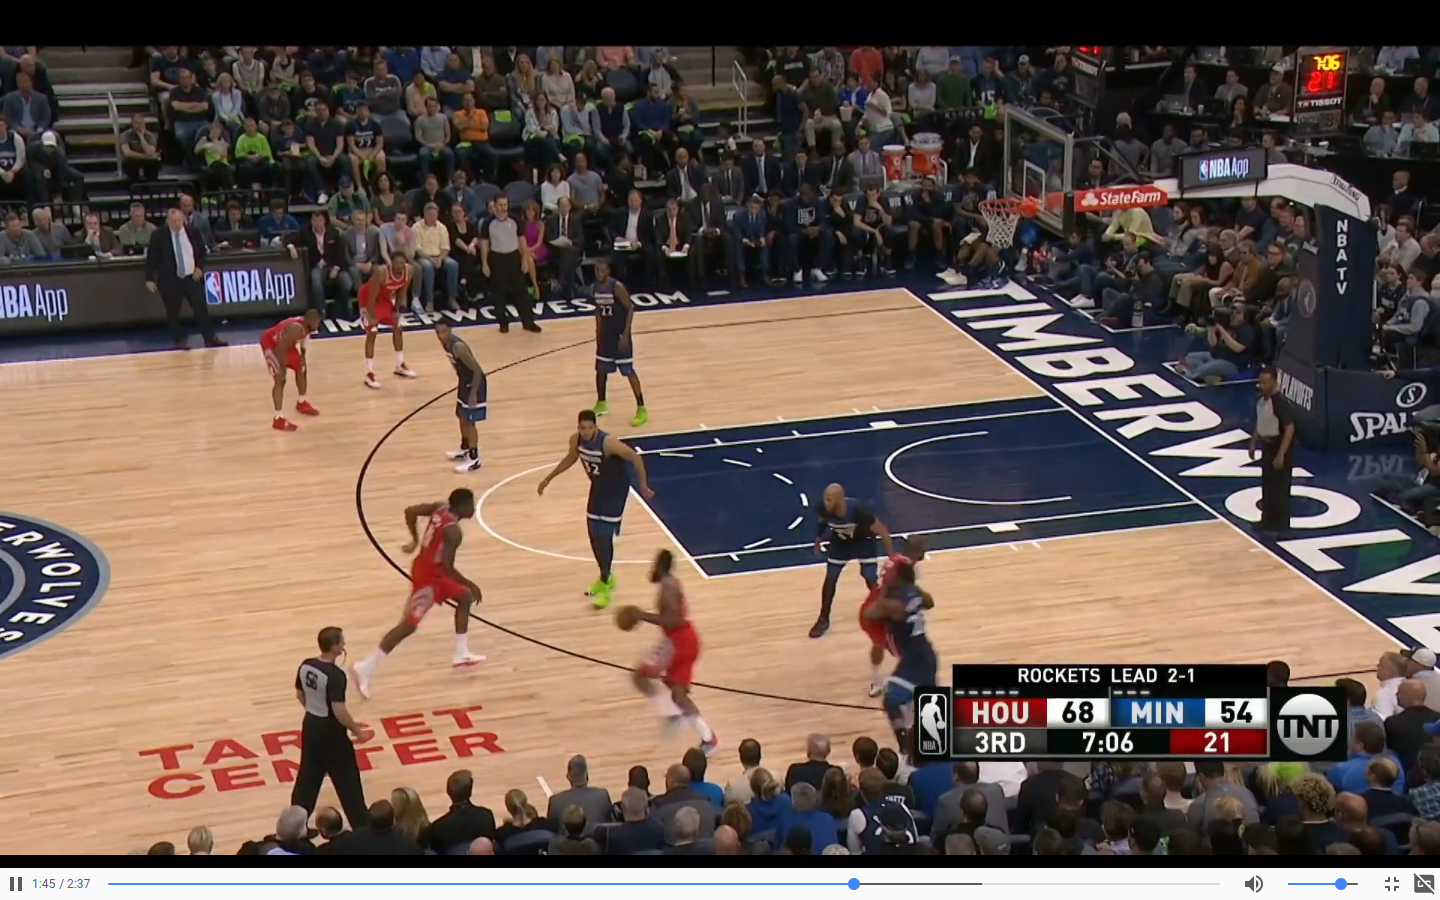ball: (616, 607, 639, 629)
player: (366, 499, 475, 687), (572, 407, 652, 604), (591, 263, 651, 425), (640, 552, 686, 750), (436, 321, 492, 474), (262, 311, 320, 431), (362, 254, 411, 393), (892, 568, 939, 687), (821, 487, 859, 632)
referee: (298, 628, 352, 796), (493, 199, 525, 336)
